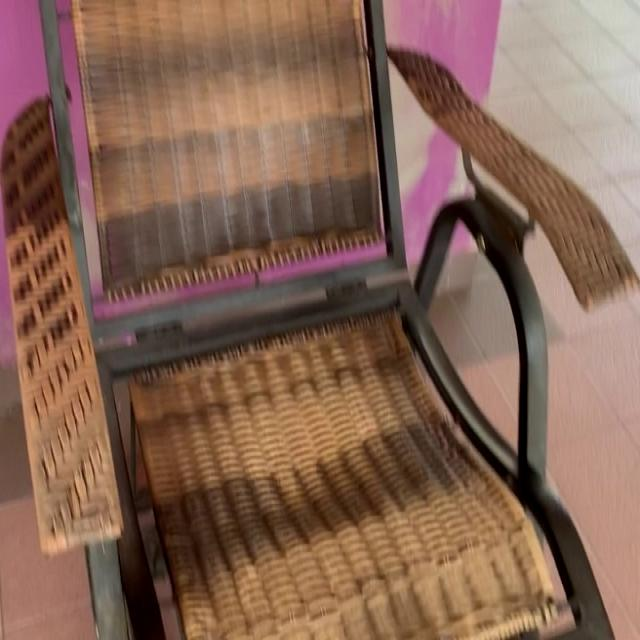Chair: (5, 3, 640, 640)
